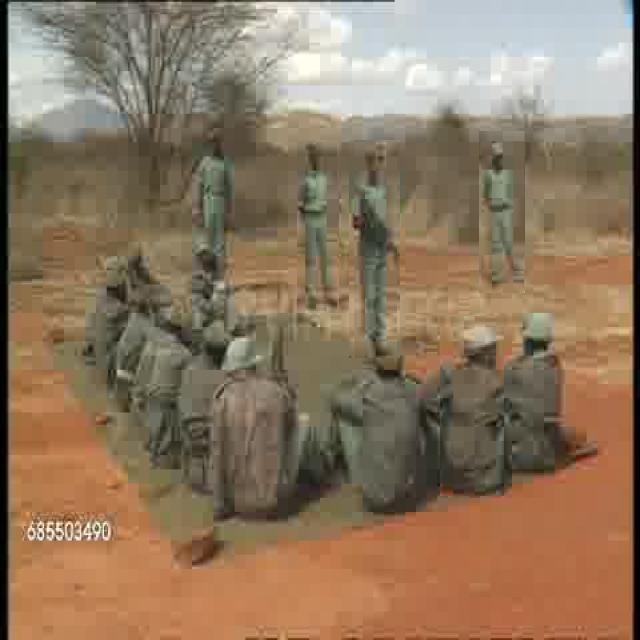poacher: (205, 334, 300, 534), (331, 336, 428, 508), (506, 316, 598, 446), (440, 316, 504, 496), (349, 140, 400, 358), (190, 123, 240, 281), (479, 132, 525, 294), (297, 140, 339, 313), (192, 320, 230, 490)
